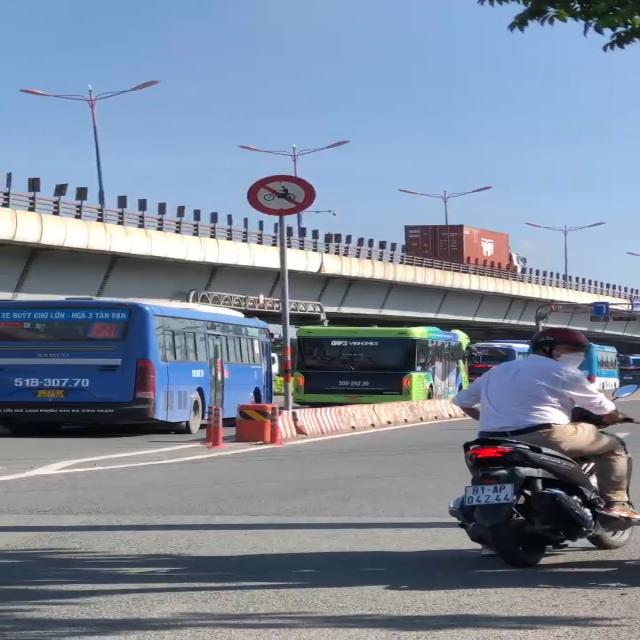Bien bao cam xe may: (238, 172, 316, 217)
